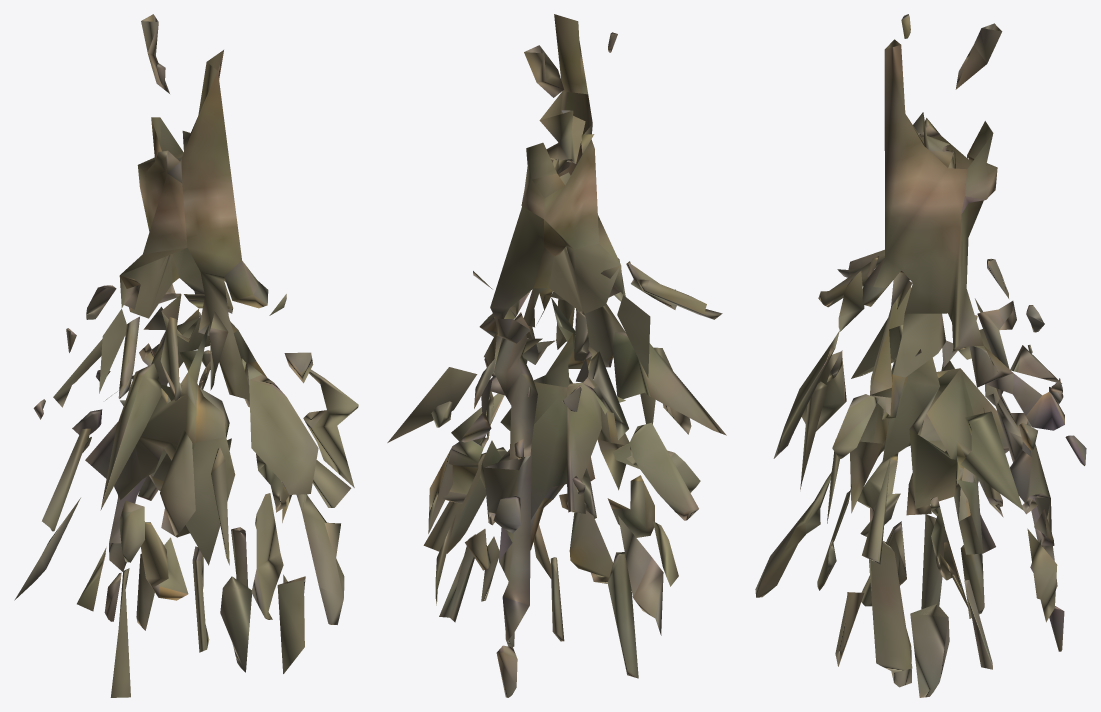
File: rack-bunch-4.glb
3 renders of one model, left to right at view 1: azimuth 30°, elevation 25°; view 2: azimuth 150°, elevation 25°; view 3: azimuth 270°, elevation 25°, orthographic.
Visible parts, largest first — view 1: Mesh0; view 2: Mesh0; view 3: Mesh0.
Boxes of the visible parts, bbox=[...] form: Mesh0: bbox=[14, 14, 358, 697]; Mesh0: bbox=[387, 14, 726, 697]; Mesh0: bbox=[755, 14, 1086, 697].
Size of the model in its own units: 0.1314 by 0.2777 by 0.1297.
Materials: 1 (1 with a texture image).
